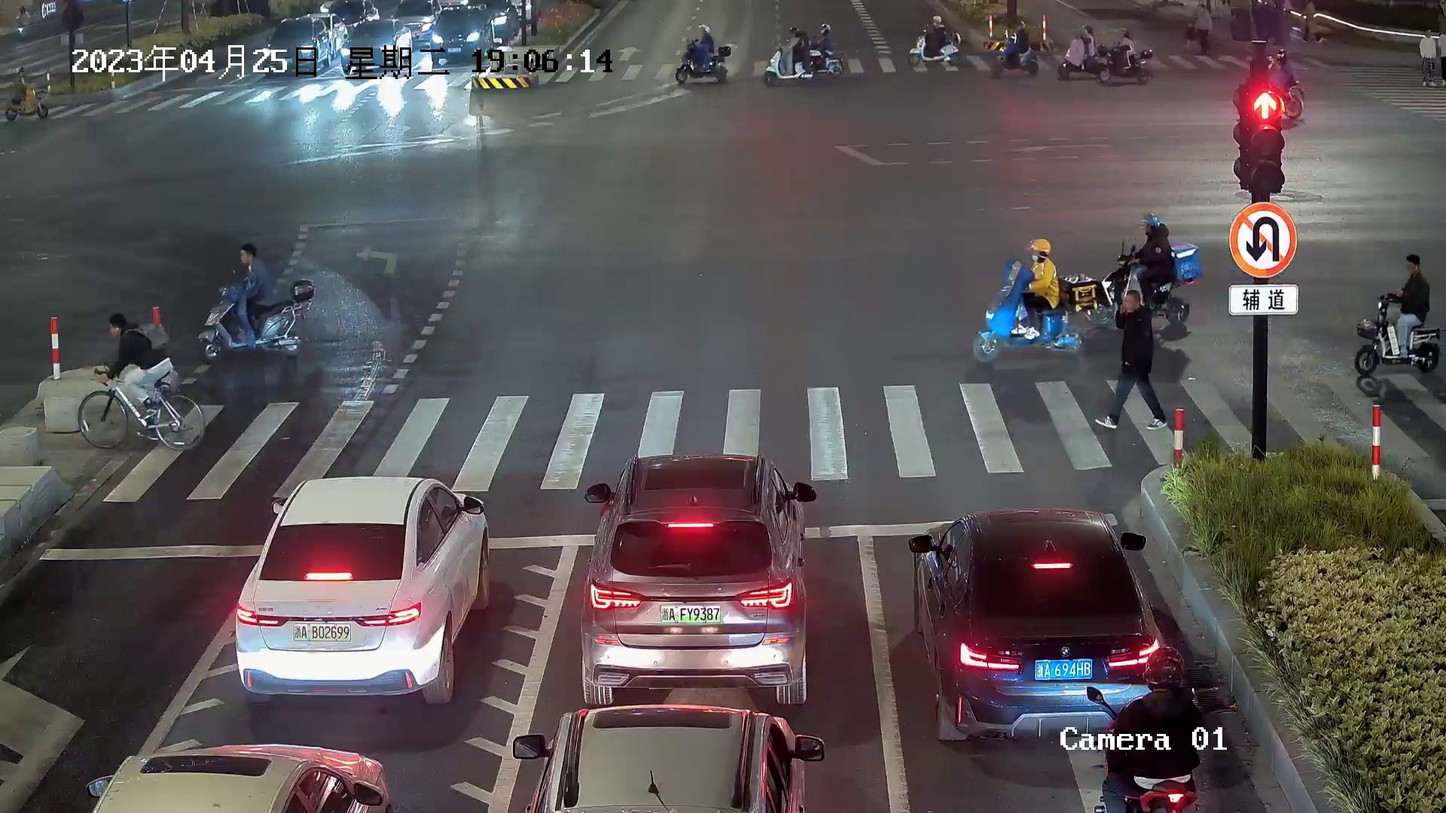person: (1115, 632, 1189, 782), (1100, 273, 1167, 429), (100, 306, 171, 440), (232, 241, 272, 355), (1014, 236, 1054, 343), (1127, 208, 1172, 300), (1390, 248, 1426, 357), (689, 14, 715, 65), (1194, 2, 1215, 57), (926, 14, 949, 53), (1117, 29, 1136, 73), (813, 19, 832, 61), (1008, 17, 1030, 52), (1082, 23, 1094, 65)
vehicle: (908, 501, 1157, 753), (575, 449, 816, 708), (230, 470, 487, 706), (508, 701, 828, 813), (75, 730, 391, 810), (76, 365, 208, 452), (968, 261, 1088, 355), (197, 284, 327, 365), (1088, 239, 1216, 318), (1342, 293, 1442, 379), (423, 7, 490, 64), (758, 40, 812, 85), (673, 43, 732, 83), (987, 38, 1049, 75), (1100, 44, 1152, 82), (905, 33, 962, 65), (1057, 39, 1103, 76), (3, 87, 50, 120)
